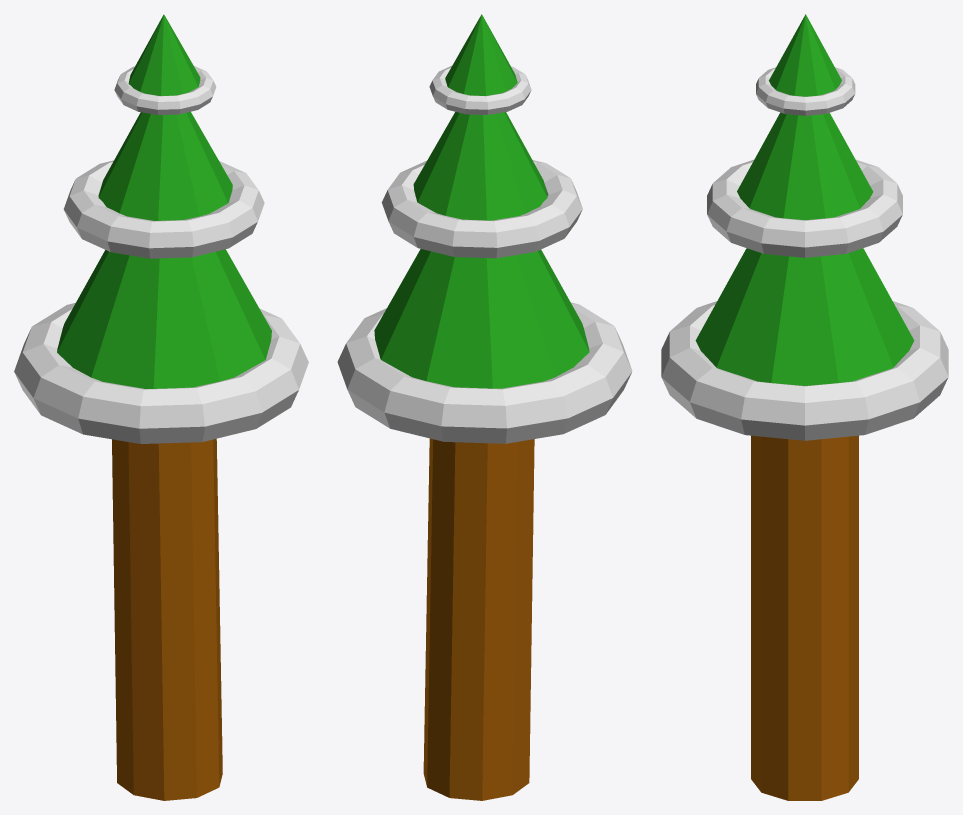
File: winter_tree.fbx
The picture shows the model from 3 angles, left to right: view 1: azimuth 30°, elevation 25°; view 2: azimuth 150°, elevation 25°; view 3: azimuth 270°, elevation 25°; orthographic projection.
Visible parts, largest first — view 1: Cylinder.015, Cone.005, Torus, Cone.004, Torus.001, Cone.003, Torus.002; view 2: Cylinder.015, Cone.005, Torus, Cone.004, Torus.001, Cone.003, Torus.002; view 3: Cylinder.015, Cone.005, Torus, Cone.004, Torus.001, Cone.003, Torus.002.
Boxes of the visible parts, <box> form: Cylinder.015: <box>112,438,222,800</box>; Cone.005: <box>57,249,271,388</box>; Torus: <box>14,302,308,443</box>; Cone.004: <box>98,111,232,220</box>; Torus.001: <box>63,160,264,258</box>; Cone.003: <box>128,14,200,95</box>; Torus.002: <box>114,66,216,114</box>; Cylinder.015: <box>423,438,534,800</box>; Cone.005: <box>374,249,589,388</box>; Torus: <box>337,302,632,443</box>; Cone.004: <box>413,112,547,220</box>; Torus.001: <box>381,160,582,258</box>; Cone.003: <box>445,14,517,95</box>; Torus.002: <box>429,65,531,114</box>; Cylinder.015: <box>751,435,858,800</box>; Cone.005: <box>695,248,914,385</box>; Torus: <box>661,301,948,440</box>; Cone.004: <box>737,112,873,220</box>; Torus.001: <box>707,159,902,257</box>; Cone.003: <box>769,14,841,96</box>; Torus.002: <box>756,67,855,115</box>.
Size of the model in its own units: 547 by 1563 by 533.
